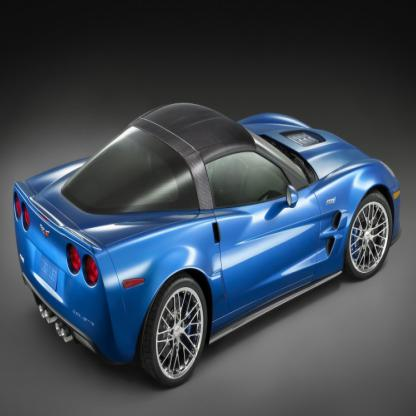Vehicle: (13, 103, 401, 385)
